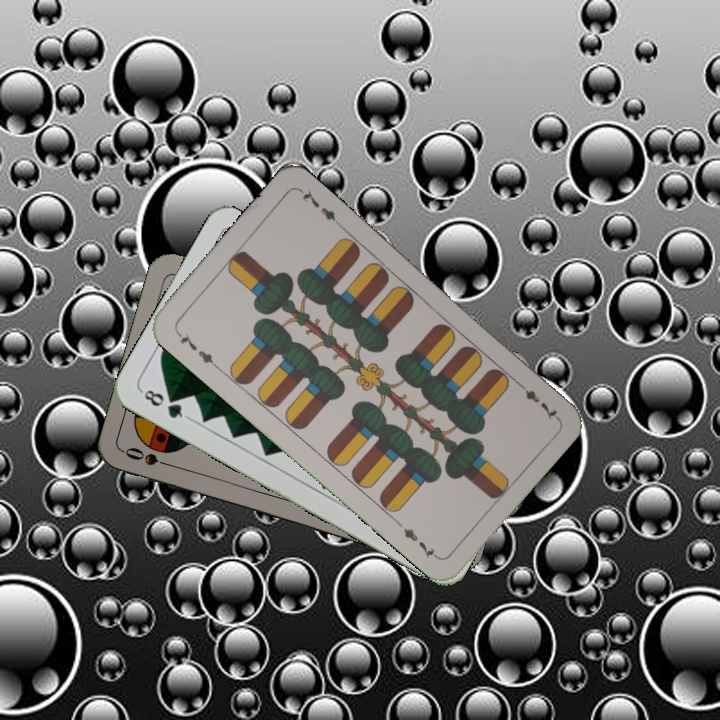E7: (512, 377, 560, 423), (172, 327, 221, 371)
G8: (137, 385, 191, 421)
SO: (121, 443, 179, 471)
